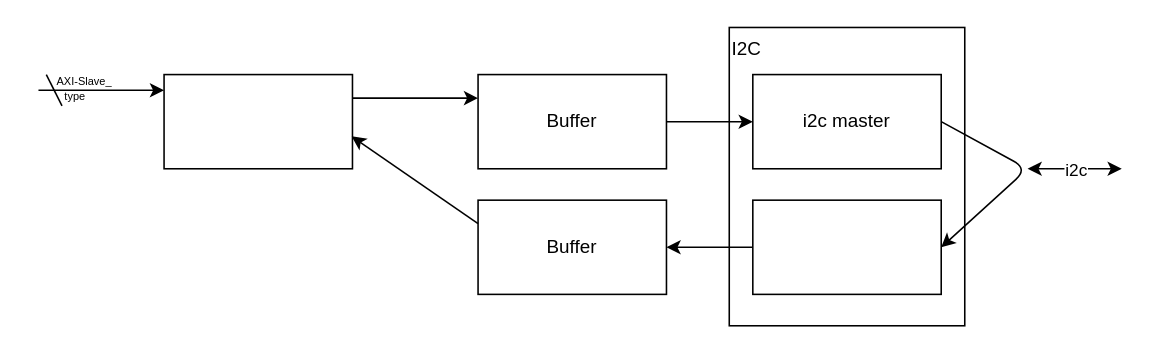
The diagram is 1163 pixels wide and 353 high, and some of its shapes have lost their labels. Each missing label, with the centre of its shape:
"AXI4 Slave" belongs at [257,121].
"i2c slave" belongs at [846,246].
